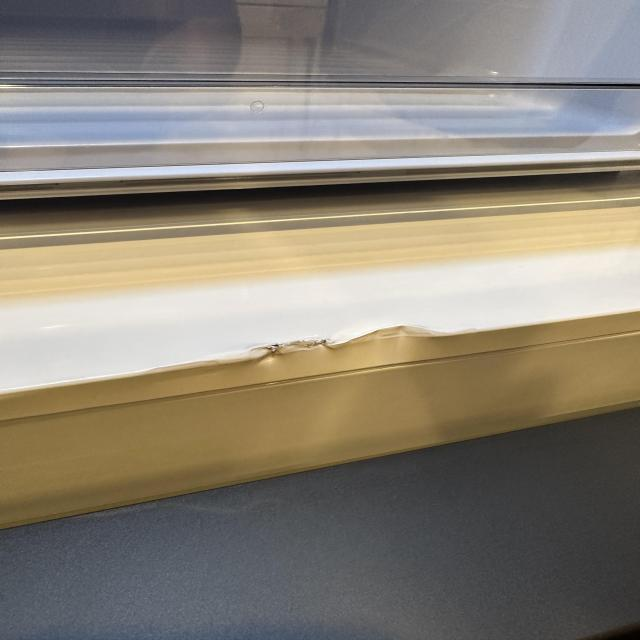dents: (206, 305, 464, 400)
